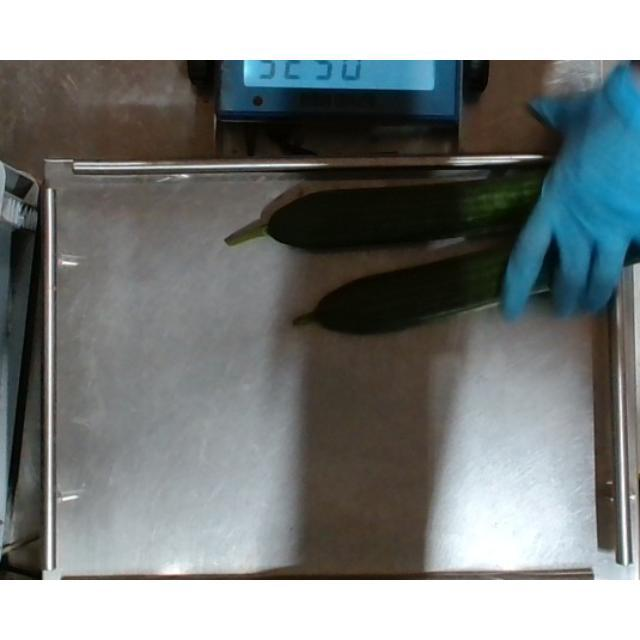cucumber: (288, 241, 640, 345), (223, 170, 633, 256)
